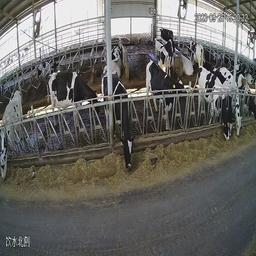cow: (100, 71, 138, 165), (145, 55, 187, 131), (44, 71, 95, 130), (196, 64, 229, 140), (0, 86, 22, 181), (210, 67, 236, 137), (220, 67, 242, 137), (238, 74, 255, 126), (158, 37, 175, 78), (103, 47, 122, 77), (190, 41, 204, 69), (34, 59, 50, 80), (159, 26, 174, 45)
